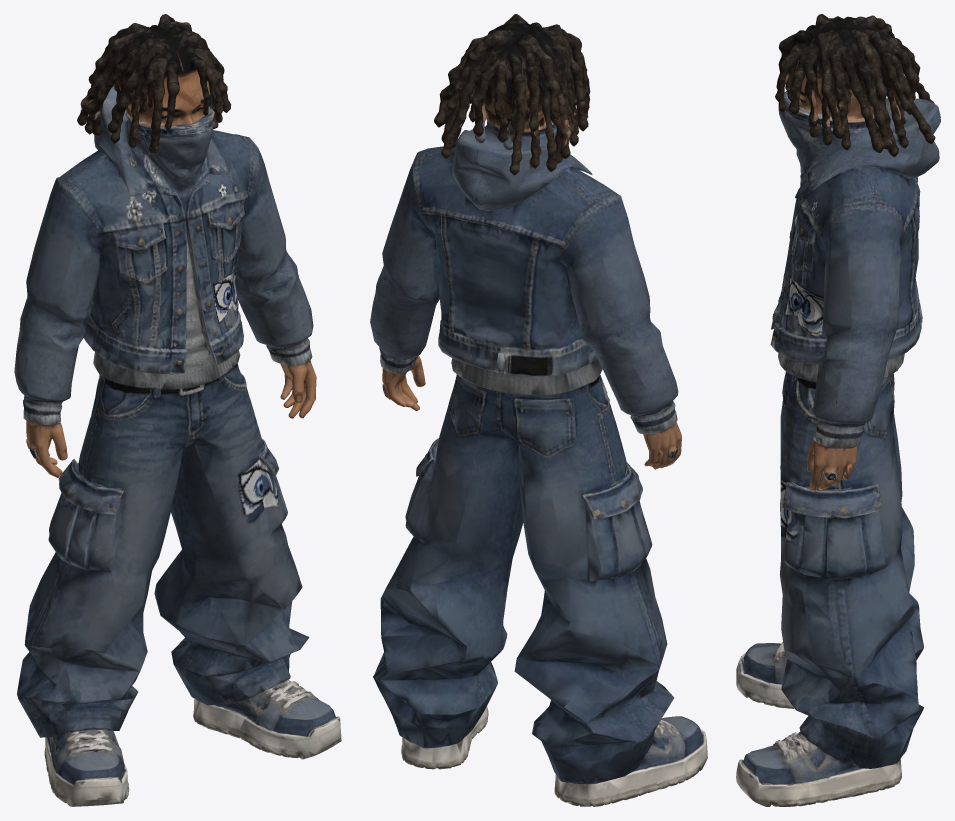
Rendered from team-jude.glb.
3 renders of one model, left to right at view 1: azimuth 30°, elevation 25°; view 2: azimuth 150°, elevation 25°; view 3: azimuth 270°, elevation 25°, orthographic. The views are drawn at different scales.
Parts seen in each view (by area): view 1: mesh_0; view 2: mesh_0; view 3: mesh_0.
Part boxes in pixels (x1=…): mesh_0: x1=14, y1=14, x2=341, y2=806; mesh_0: x1=370, y1=14, x2=707, y2=806; mesh_0: x1=736, y1=14, x2=940, y2=806.
Bounding box in the file's own units: 0.8 × 1.9 × 0.4901.
Materials: 1 (1 with a texture image).
